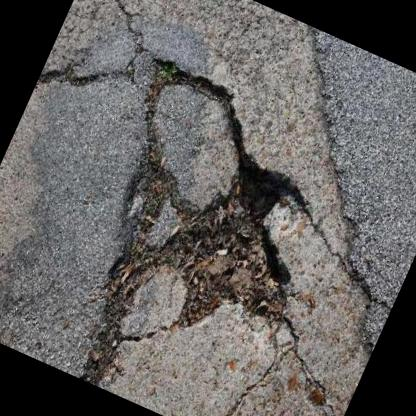pothole: (38, 48, 364, 405)
